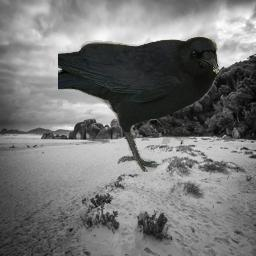Crow: (58, 36, 220, 172)
